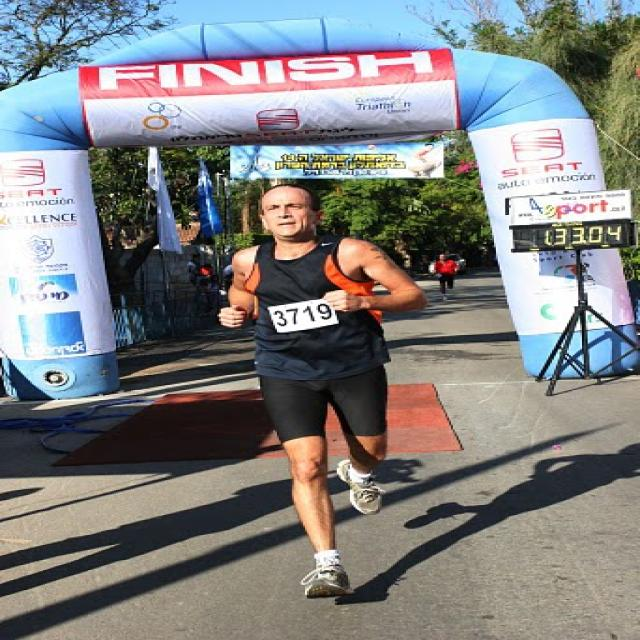Bib: (273, 302, 339, 330)
